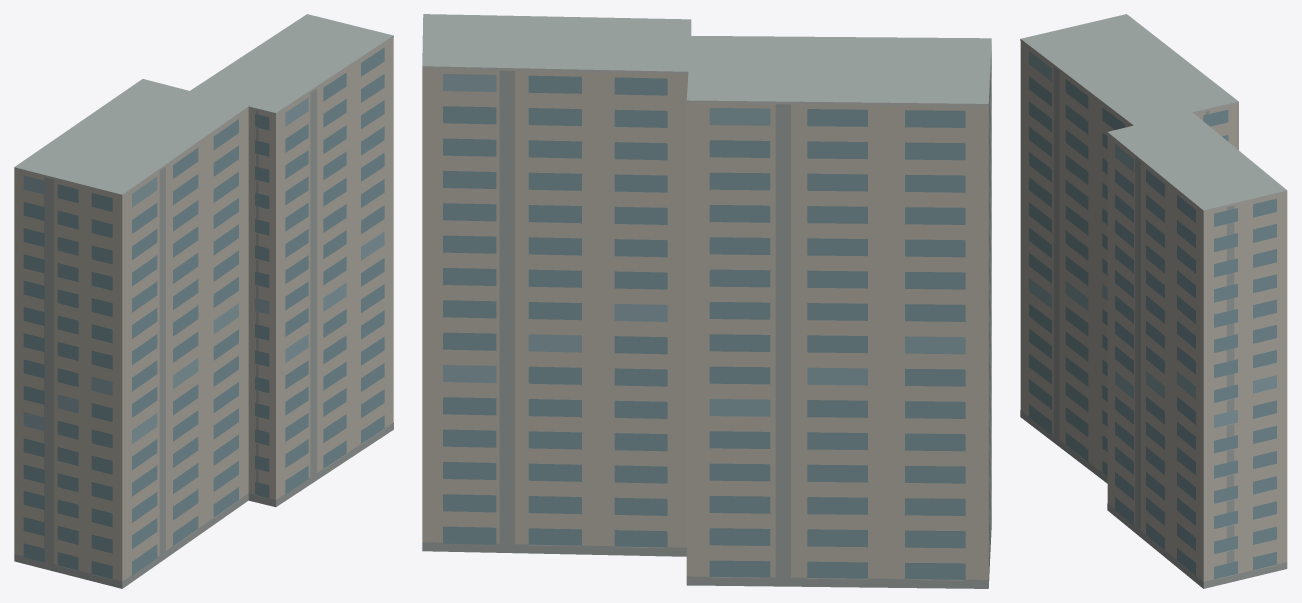
File: residential-78236b4b-3931-4d0c-8f00-68da939aec25.glb
3 views of the same model, side by side, from view 1: azimuth 30°, elevation 25°; view 2: azimuth 150°, elevation 25°; view 3: azimuth 270°, elevation 25° (orthographic). The views are drawn at different scales.
Visible parts, largest first — view 1: residential-78236b4b-3931-4d0c-8f00-68da939aec25.tmp; view 2: residential-78236b4b-3931-4d0c-8f00-68da939aec25.tmp; view 3: residential-78236b4b-3931-4d0c-8f00-68da939aec25.tmp.
Boxes of the visible parts, <box> form: residential-78236b4b-3931-4d0c-8f00-68da939aec25.tmp: <box>14,14,393,588</box>; residential-78236b4b-3931-4d0c-8f00-68da939aec25.tmp: <box>422,14,991,588</box>; residential-78236b4b-3931-4d0c-8f00-68da939aec25.tmp: <box>1020,14,1287,588</box>.
Size of the model in its own units: 46.8 by 42 by 26.86.
